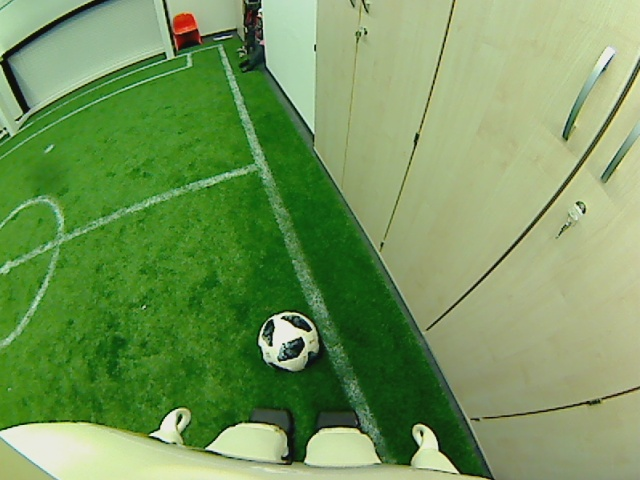ball: (256, 309, 322, 370)
